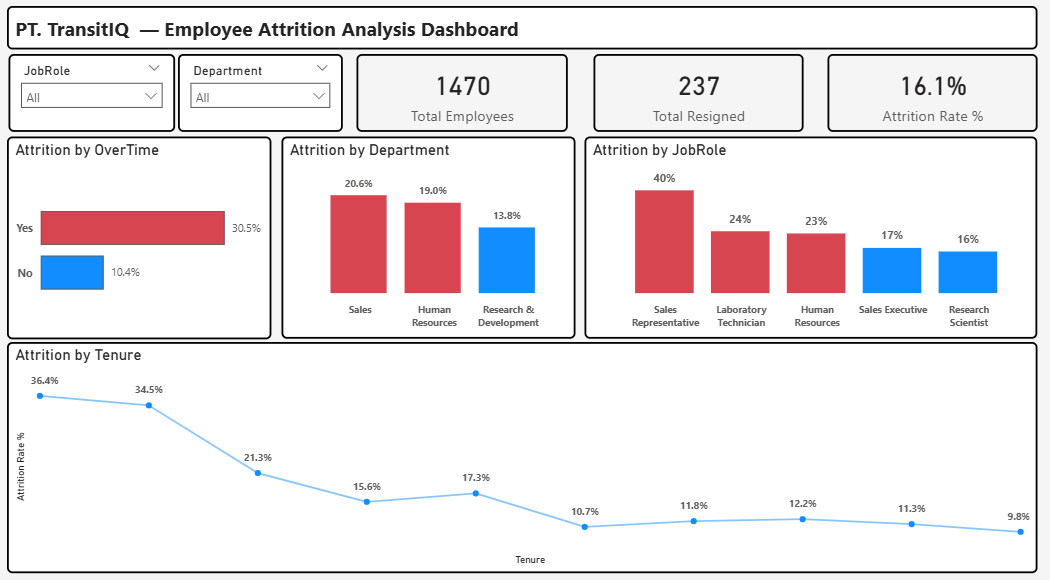

What the dashboard file says about the page in this screenshot:
{"tool":"powerbi","page":{"name":"Page 1","canvas":[1280,720],"ordinal":0},"visuals":[{"type":"card","fields":{"Values":["hr_attrition_clean.Attrition Rate %"]},"box":[932.6,122.8,232.3,86.3],"z":0},{"type":"card","fields":{"Values":["hr_attrition_clean.Total Employees"]},"box":[412.5,122.6,233.6,86.1],"z":1000},{"type":"card","fields":{"Values":["hr_attrition_clean.Total Resigned"]},"box":[673.7,122.8,232.3,86.3],"z":2000},{"type":"lineChart","title":"Attrition by Tenure","fields":{"Y":["hr_attrition_clean.Attrition Rate %"],"Category":["hr_attrition_clean.YearsAtCompany"]},"box":[26.5,440.6,1138,255.1],"z":3000},{"type":"clusteredBarChart","title":"Attrition by OverTime","fields":{"Category":["hr_attrition_clean.OverTime"],"Y":["hr_attrition_clean.Attrition Rate %"]},"box":[26.6,214.1,292.1,224],"z":4000},{"type":"clusteredColumnChart","title":"Attrition by Department","fields":{"Category":["hr_attrition_clean.Department"],"Y":["hr_attrition_clean.Attrition Rate %"]},"box":[329.6,213.7,324.7,223.6],"z":5000},{"type":"slicer","fields":{"Values":["hr_attrition_clean.Department"]},"box":[215.3,122.6,182.2,86.1],"z":6000},{"type":"columnChart","title":"Attrition by JobRole","fields":{"Y":["hr_attrition_clean.Attrition Rate %"],"Category":["hr_attrition_clean.JobRole"]},"box":[664.2,213.7,500.3,223.6],"z":7000},{"type":"slicer","fields":{"Values":["hr_attrition_clean.JobRole"]},"box":[28.2,122.6,183.9,86.1],"z":8000},{"type":"textbox","box":[26.5,69.6,1138,48],"z":9000}]}

Visuals, with their boxes in screenshot pixels (x1, y1, x2, y2), scaled from the page's 1280x720 canvas onto the 1050x580 screenshot:
card - hr_attrition_clean.Attrition Rate %: <region>765, 99, 956, 168</region>
card - hr_attrition_clean.Total Employees: <region>338, 99, 530, 168</region>
card - hr_attrition_clean.Total Resigned: <region>553, 99, 743, 168</region>
"Attrition by Tenure" lineChart: <region>22, 355, 955, 560</region>
"Attrition by OverTime" clusteredBarChart: <region>22, 172, 261, 353</region>
"Attrition by Department" clusteredColumnChart: <region>270, 172, 537, 352</region>
slicer - hr_attrition_clean.Department: <region>177, 99, 326, 168</region>
"Attrition by JobRole" columnChart: <region>545, 172, 955, 352</region>
slicer - hr_attrition_clean.JobRole: <region>23, 99, 174, 168</region>
textbox: <region>22, 56, 955, 95</region>
